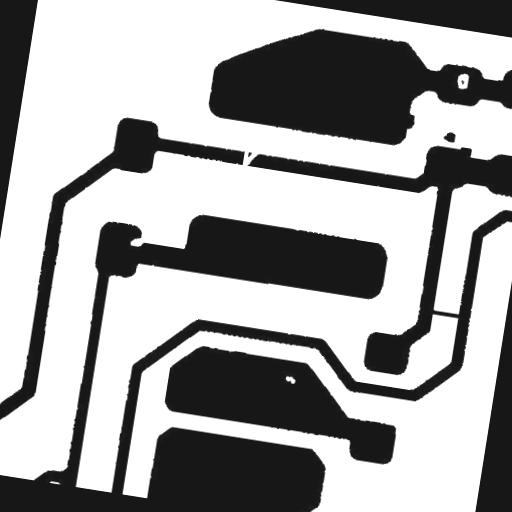copper: (434, 122, 464, 150)
mousebite: (121, 227, 152, 255)
open: (233, 138, 266, 176)
pin-hole: (447, 64, 477, 98), (276, 367, 304, 392)
short: (413, 298, 470, 326)
spur: (391, 102, 424, 138), (450, 138, 480, 166)
